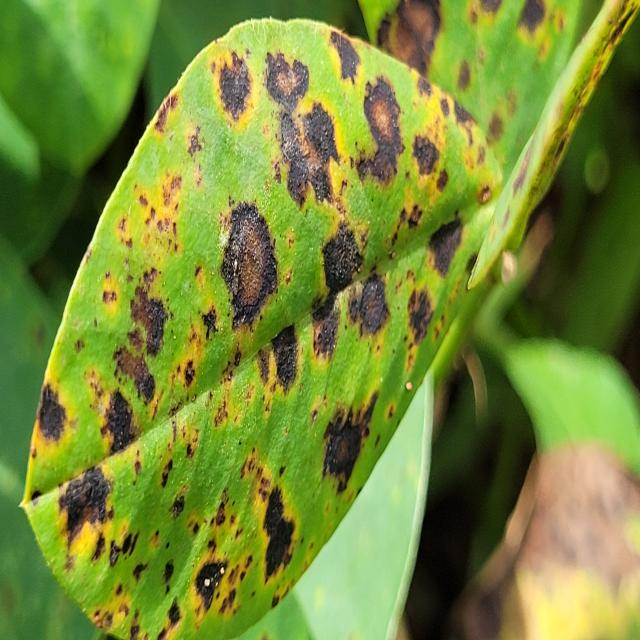Ground nut_tikka leaf spot: (23, 16, 500, 640)
